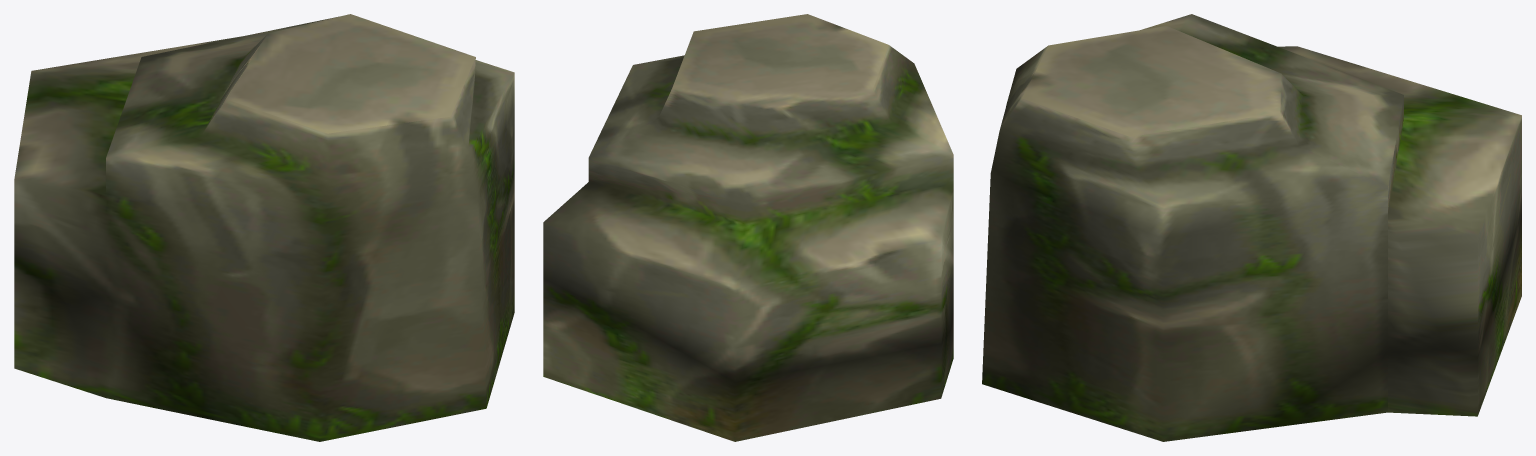
File: RockFormation_4_5 (48).fbx
The picture shows the model from 3 angles, left to right: view 1: azimuth 30°, elevation 25°; view 2: azimuth 150°, elevation 25°; view 3: azimuth 270°, elevation 25°; orthographic projection. The views are drawn at different scales.
Visible parts, largest first — view 1: RockFormation_4_5 (48); view 2: RockFormation_4_5 (48); view 3: RockFormation_4_5 (48).
Part boxes in pixels (x1,y1,x2,y2): RockFormation_4_5 (48): (14, 14, 514, 441); RockFormation_4_5 (48): (543, 14, 953, 441); RockFormation_4_5 (48): (982, 14, 1521, 441).
Bounding box in the file's own units: 704 × 437 × 769.
1 material, 1 textured.
